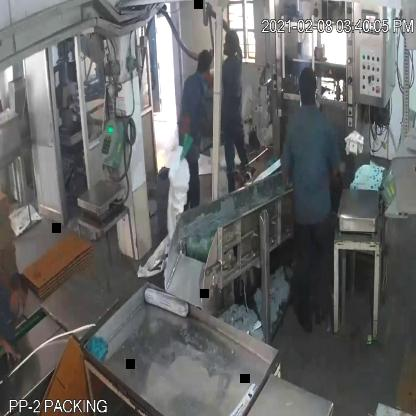glove: (170, 112, 200, 178)
no_glove: (0, 319, 27, 383)
